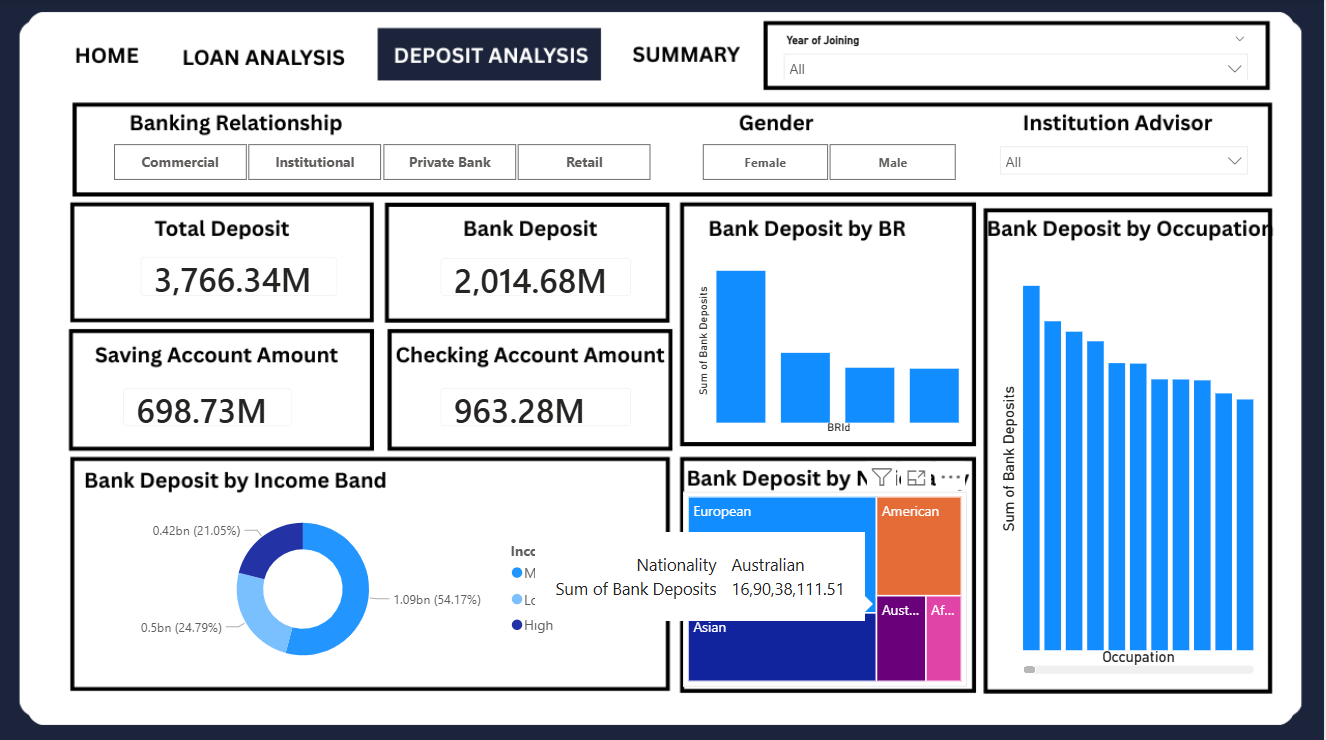

The dashboard page shown, as its layout file describes it:
{"tool":"powerbi","page":{"name":"Deposit Analysis","canvas":[1280,720],"ordinal":2},"visuals":[{"type":"cardVisual","fields":{"Data":["Banking_Clients.Total Deposit"]},"box":[120.5,233,224.9,72.3],"z":0},{"type":"cardVisual","fields":{"Data":["Sum(Banking_Clients.Bank Deposits)"]},"box":[410.2,234,218.4,71.2],"z":1000},{"type":"cardVisual","fields":{"Data":["Sum(Banking_Clients.Saving Accounts)"]},"box":[103.8,359.5,197.9,71.2],"z":2000},{"type":"cardVisual","fields":{"Data":["Sum(Banking_Clients.Checking Accounts)"]},"box":[410.2,359.5,218.4,71.2],"z":3000},{"type":"donutChart","fields":{"Category":["Banking_Clients.Income Band"],"Y":["Sum(Banking_Clients.Bank Deposits)"]},"box":[89.3,483.8,510.3,173.7],"z":4000},{"type":"clusteredColumnChart","fields":{"Category":["Banking_Clients.BRId"],"Y":["Sum(Banking_Clients.Bank Deposits)"]},"box":[670.8,237.7,264.2,188.2],"z":5000},{"type":"treemap","fields":{"Group":["Banking_Clients.Nationality"],"Values":["Sum(Banking_Clients.Bank Deposits)"]},"box":[661.1,476.5,273.9,188.2],"z":6000},{"type":"clusteredColumnChart","fields":{"Category":["Banking_Clients.Occupation"],"Y":["Sum(Banking_Clients.Bank Deposits)"]},"box":[962.7,246.1,254.6,411.4],"z":7000},{"type":"slicer","fields":{"Values":["Banking_Clients.BRId"]},"box":[85.7,133.9,568.2,48.3],"z":8000},{"type":"slicer","fields":{"Values":["Banking_Clients.GenderId"]},"box":[653.9,133.9,294.4,48.3],"z":9000},{"type":"slicer","fields":{"Values":["Banking_Clients.IAId"]},"box":[956.7,132.7,259.4,48.3],"z":10000},{"type":"slicer","fields":{"Values":["Banking_Clients.Year of Joining"]},"box":[748,29,468.1,50.7],"z":11000},{"type":"actionButton","box":[53.1,33.8,100.1,39.8],"z":12000},{"type":"actionButton","box":[168.9,33.8,176.1,39.8],"z":13000},{"type":"actionButton","box":[599.6,29,121.9,50.7],"z":14000}]}

Visuals, with their boxes in screenshot pixels (x1, y1, x2, y2), scaled from the page's 1280x720 canvas onto the 1326x740 screenshot:
cardVisual - Banking_Clients.Total Deposit: rect(125, 239, 358, 314)
cardVisual - Sum(Banking_Clients.Bank Deposits): rect(425, 240, 651, 314)
cardVisual - Sum(Banking_Clients.Saving Accounts): rect(108, 369, 313, 443)
cardVisual - Sum(Banking_Clients.Checking Accounts): rect(425, 369, 651, 443)
donutChart - Banking_Clients.Income Band x Sum(Banking_Clients.Bank Deposits): rect(93, 497, 621, 676)
clusteredColumnChart - Banking_Clients.BRId x Sum(Banking_Clients.Bank Deposits): rect(695, 244, 969, 438)
treemap - Banking_Clients.Nationality x Sum(Banking_Clients.Bank Deposits): rect(685, 490, 969, 683)
clusteredColumnChart - Banking_Clients.Occupation x Sum(Banking_Clients.Bank Deposits): rect(997, 253, 1261, 676)
slicer - Banking_Clients.BRId: rect(89, 138, 677, 187)
slicer - Banking_Clients.GenderId: rect(677, 138, 982, 187)
slicer - Banking_Clients.IAId: rect(991, 136, 1260, 186)
slicer - Banking_Clients.Year of Joining: rect(775, 30, 1260, 82)
actionButton: rect(55, 35, 159, 76)
actionButton: rect(175, 35, 357, 76)
actionButton: rect(621, 30, 747, 82)
